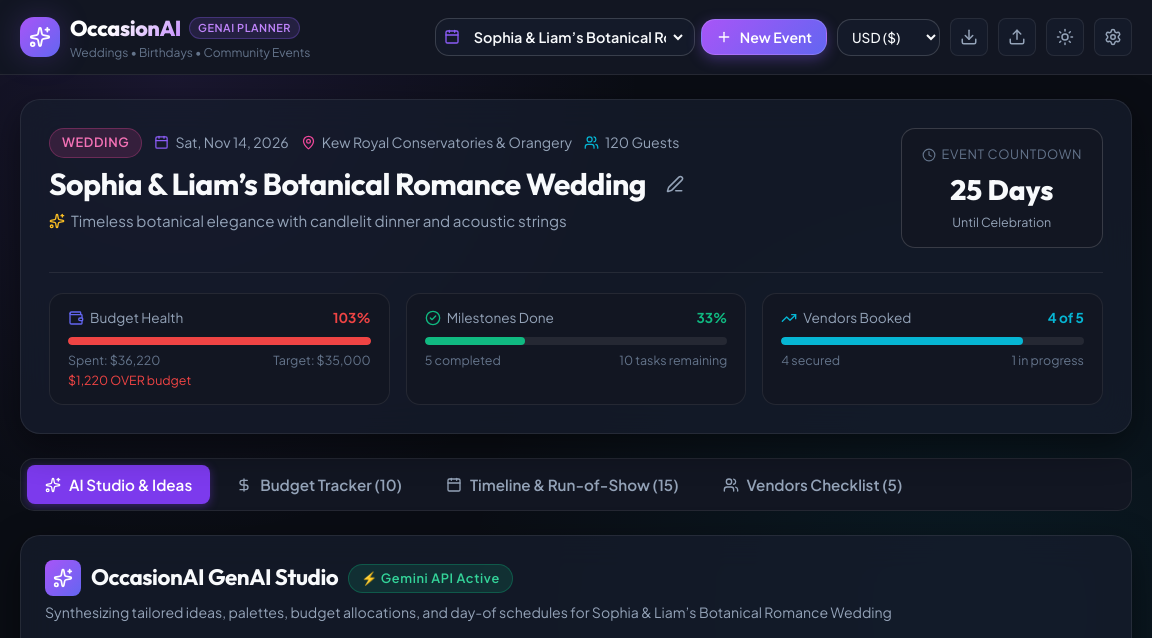
Test: OccasionAI Application Integration Tests › switches between AI Studio, Budget Tracker, Timeline, and Vendors tabs
Note: Switch to Budget Tracker
What coordinates should you click on to do the following:
click the tab "Budget Tracker (10)"
I would click on:
 (319, 485)
Its box is [218,465,420,504].
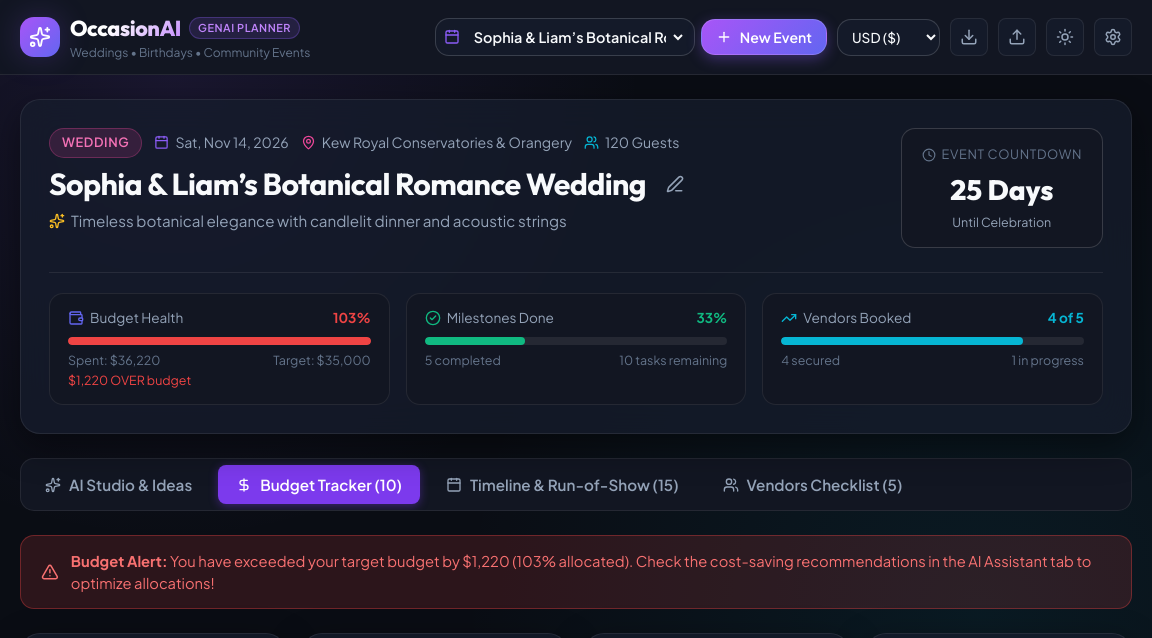
Note: Switch to Timeline & Run-of-Show
What coordinates should you click on to do the following:
click the tab "Timeline & Run-of-Show (15)"
I would click on:
 (562, 485)
Its box is [428,465,696,504].
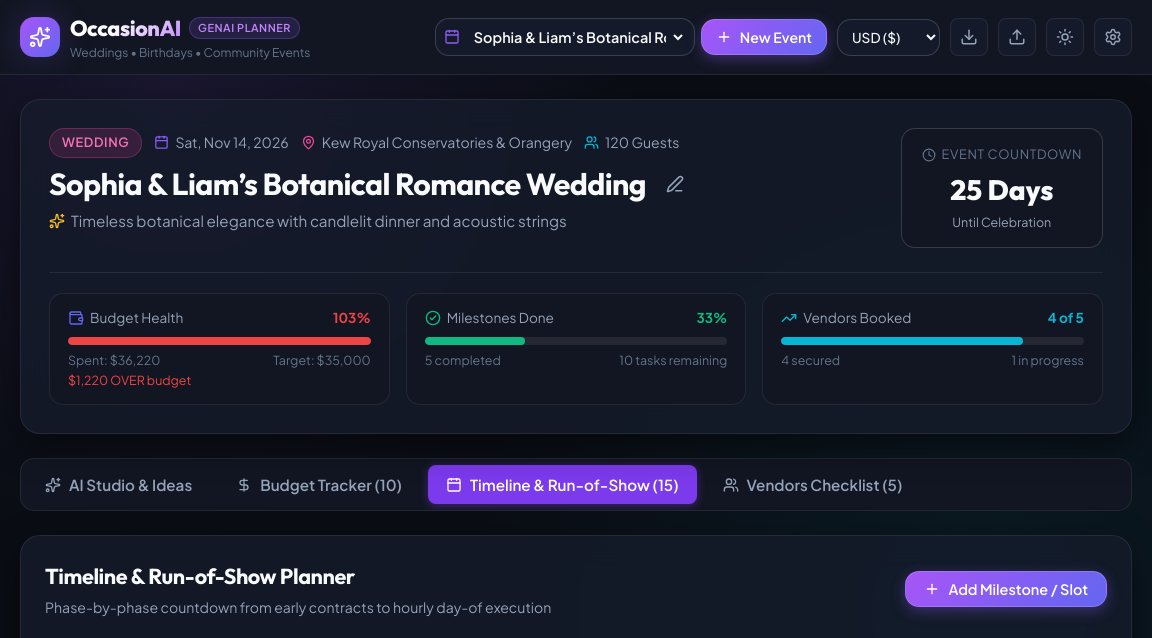
Now the heading "Timeline & Run-of-Show Planner" is shown, box [45,560,355,592]
Now the button "Add Milestone / Slot" is shown, box [906,571,1107,607]
Note: Switch to Vendors Checklist
What coordinates should you click on to do the following:
click the tab "Vendors Checklist (5)"
I would click on:
 (812, 485)
Its box is [704,465,920,504].
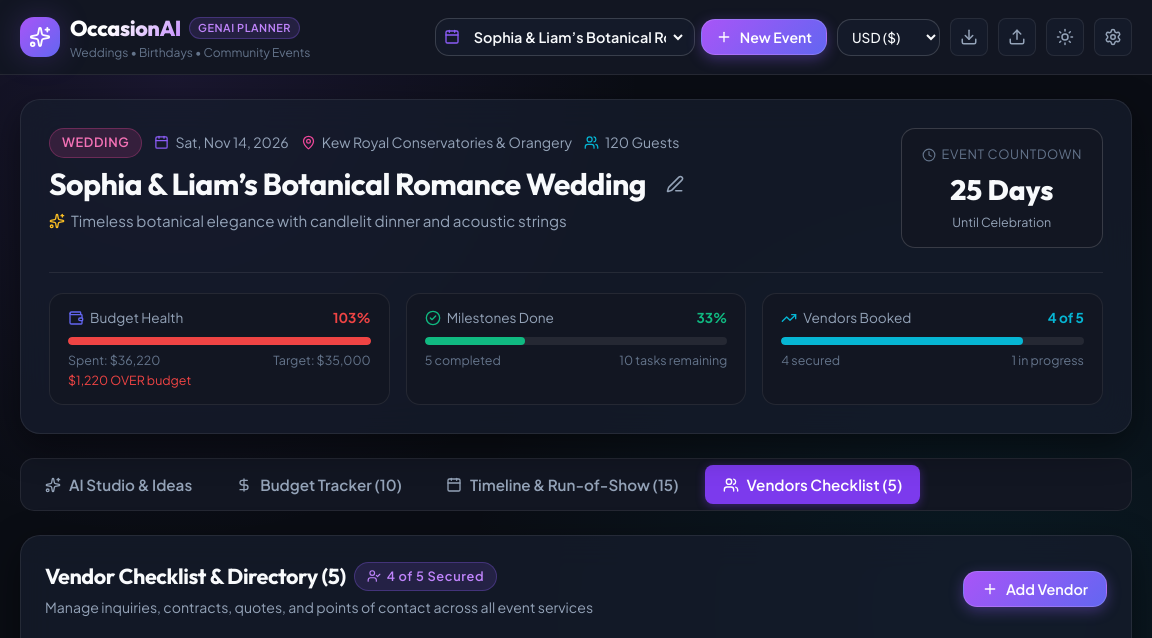
Now the heading "Vendor Checklist & Directory (5)" is shown, box [45,560,346,592]
Now the button "Add Vendor" is shown, box [963,571,1107,607]
